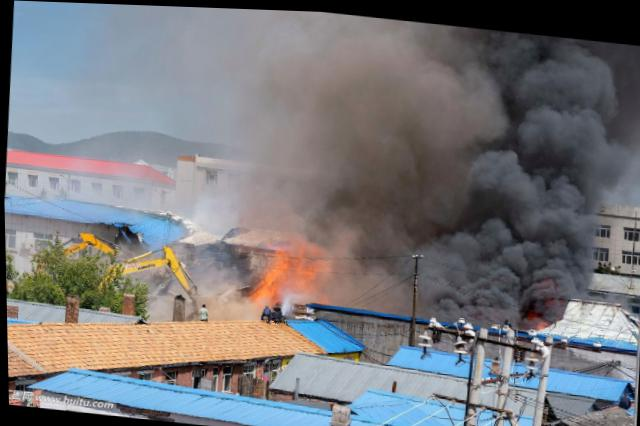fire: (290, 247, 313, 285), (248, 270, 275, 297), (272, 241, 289, 261), (266, 259, 288, 274), (315, 289, 329, 301), (533, 312, 547, 324)
